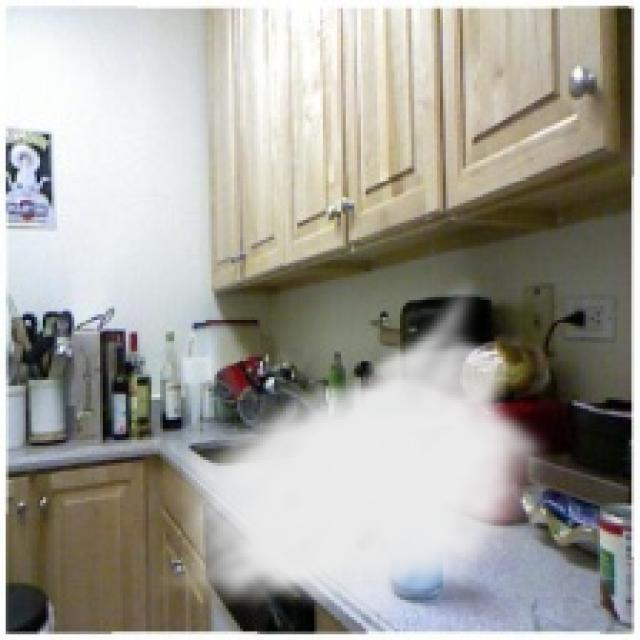Smoke: (154, 271, 557, 626)
